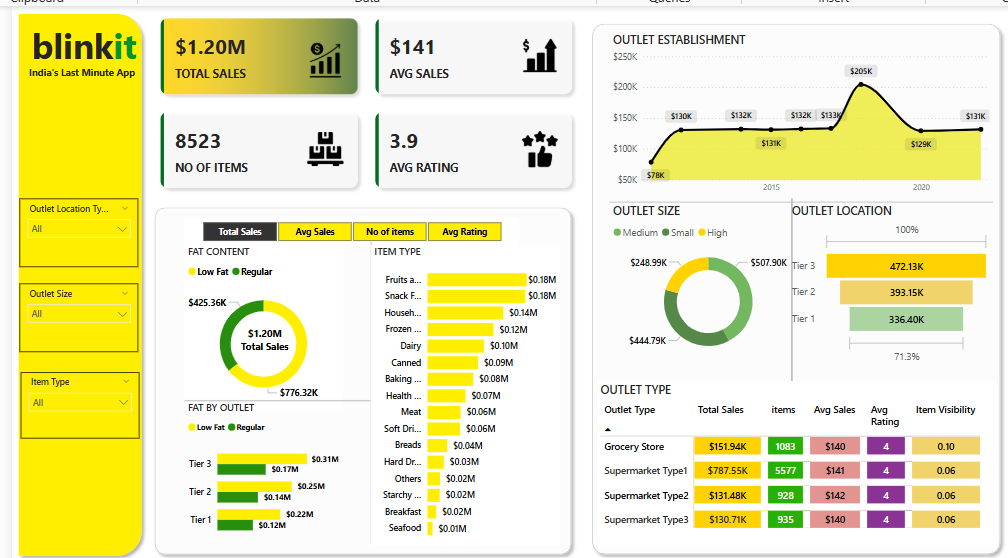

What the dashboard file says about the page in this screenshot:
{"tool":"powerbi","page":{"name":"Page 1","canvas":[1400,800],"ordinal":0},"visuals":[{"type":"shape","box":[0,1.7,189.2,770.8],"z":0},{"type":"textbox","box":[22.7,16.5,165.3,82.6],"z":1000},{"type":"textbox","box":[0,78.5,444.2,45.5],"z":2000},{"type":"cardVisual","fields":{"Data":["BlinkIT Grocery Data.Total Sales","BlinkIT Grocery Data.Avg Sales","BlinkIT Grocery Data.No of items","BlinkIT Grocery Data.Avg Rating"]},"box":[189.3,0,607.1,271.4],"z":3000},{"type":"shape","box":[189.3,271.4,596.4,500],"z":4000},{"type":"donutChart","title":"FAT CONTENT","fields":{"Y":["BlinkIT Grocery Data.Total Sales"],"Category":["BlinkIT Grocery Data.Item Fat Content"]},"box":[239.3,332.1,219.6,230.4],"z":5000},{"type":"slicer","fields":{"Values":["Metrics.Metrics"]},"box":[239.3,292.9,464.3,39.3],"z":6000},{"type":"cardVisual","fields":{"Data":["BlinkIT Grocery Data.Total Sales"]},"box":[296.4,417.9,108.9,89.3],"z":7000},{"type":"clusteredBarChart","title":"FAT BY OUTLET","fields":{"Y":["BlinkIT Grocery Data.Total Sales"],"Category":["BlinkIT Grocery Data.Outlet Location Type"],"Series":["BlinkIT Grocery Data.Item Fat Content"]},"box":[239.3,548.2,219.6,201.8],"z":8000},{"type":"shape","box":[239.3,496.4,258.9,103.6],"z":9000},{"type":"shape","box":[211.8,328.1,574.7,418.4],"z":10000},{"type":"barChart","title":"ITEM TYPE","fields":{"Y":["BlinkIT Grocery Data.Total Sales"],"Category":["BlinkIT Grocery Data.Item Type"]},"box":[498.2,332.1,262.5,417.9],"z":11000},{"type":"shape","box":[796.9,15.6,585.1,755.2],"z":12000},{"type":"lineChart","title":"OUTLET ESTABLISHMENT","fields":{"Y":["BlinkIT Grocery Data.Total Sales"],"Category":["BlinkIT Grocery Data.Outlet Establishment Year"]},"box":[829.9,34.7,533,234.4],"z":13000},{"type":"shape","box":[829.9,123.3,533,298.6],"z":14000},{"type":"donutChart","title":" OUTLET SIZE","fields":{"Y":["BlinkIT Grocery Data.Total Sales"],"Category":["BlinkIT Grocery Data.Outlet Size"]},"box":[829.9,272.6,275,225],"z":15000},{"type":"shape","box":[934,267.4,298.6,479.2],"z":16000},{"type":"funnel","title":"OUTLET LOCATION","fields":{"Category":["BlinkIT Grocery Data.Outlet Location Type"],"Y":["Sum(BlinkIT Grocery Data.Sales)"]},"box":[1078.1,272.6,284.7,229.2],"z":17000},{"type":"pivotTable","title":"OUTLET TYPE","fields":{"Rows":["BlinkIT Grocery Data.Outlet Type"],"Values":["BlinkIT Grocery Data.Total Sales","BlinkIT Grocery Data.No of items","BlinkIT Grocery Data.Avg Sales","BlinkIT Grocery Data.Avg Rating","Avg(BlinkIT Grocery Data.Item Visibility)"]},"box":[812.5,520.8,555.6,230.9],"z":18000},{"type":"slicer","fields":{"Values":["BlinkIT Grocery Data.Outlet Location Type"]},"box":[10.4,267.4,164.9,95.5],"z":19000},{"type":"slicer","fields":{"Values":["BlinkIT Grocery Data.Outlet Size"]},"box":[10.4,385.4,164.9,95.5],"z":20000},{"type":"slicer","fields":{"Values":["BlinkIT Grocery Data.Item Type"]},"box":[12.2,508.7,164.9,92],"z":21000}]}

Visuals, with their boxes on the page's 1400x800 design canvas (x1, y1, x2, y2). These are canvas units, not pixel positions in the 1008x558 screenshot, which may show the page scaled, cropped or inside an application window:
shape: {"x1": 0, "y1": 2, "x2": 189, "y2": 772}
textbox: {"x1": 23, "y1": 16, "x2": 188, "y2": 99}
textbox: {"x1": 0, "y1": 78, "x2": 444, "y2": 124}
cardVisual - BlinkIT Grocery Data.Total Sales x BlinkIT Grocery Data.Avg Sales: {"x1": 189, "y1": 0, "x2": 796, "y2": 271}
shape: {"x1": 189, "y1": 271, "x2": 786, "y2": 771}
"FAT CONTENT" donutChart: {"x1": 239, "y1": 332, "x2": 459, "y2": 562}
slicer - Metrics.Metrics: {"x1": 239, "y1": 293, "x2": 704, "y2": 332}
cardVisual - BlinkIT Grocery Data.Total Sales: {"x1": 296, "y1": 418, "x2": 405, "y2": 507}
"FAT BY OUTLET" clusteredBarChart: {"x1": 239, "y1": 548, "x2": 459, "y2": 750}
shape: {"x1": 239, "y1": 496, "x2": 498, "y2": 600}
shape: {"x1": 212, "y1": 328, "x2": 786, "y2": 746}
"ITEM TYPE" barChart: {"x1": 498, "y1": 332, "x2": 761, "y2": 750}
shape: {"x1": 797, "y1": 16, "x2": 1382, "y2": 771}
"OUTLET ESTABLISHMENT" lineChart: {"x1": 830, "y1": 35, "x2": 1363, "y2": 269}
shape: {"x1": 830, "y1": 123, "x2": 1363, "y2": 422}
" OUTLET SIZE" donutChart: {"x1": 830, "y1": 273, "x2": 1105, "y2": 498}
shape: {"x1": 934, "y1": 267, "x2": 1233, "y2": 747}
"OUTLET LOCATION" funnel: {"x1": 1078, "y1": 273, "x2": 1363, "y2": 502}
"OUTLET TYPE" pivotTable: {"x1": 812, "y1": 521, "x2": 1368, "y2": 752}
slicer - BlinkIT Grocery Data.Outlet Location Type: {"x1": 10, "y1": 267, "x2": 175, "y2": 363}
slicer - BlinkIT Grocery Data.Outlet Size: {"x1": 10, "y1": 385, "x2": 175, "y2": 481}
slicer - BlinkIT Grocery Data.Item Type: {"x1": 12, "y1": 509, "x2": 177, "y2": 601}
